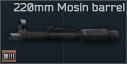Mosin 7.62x54R sawn-off 220mm barrel: (0, 0, 127, 64)
